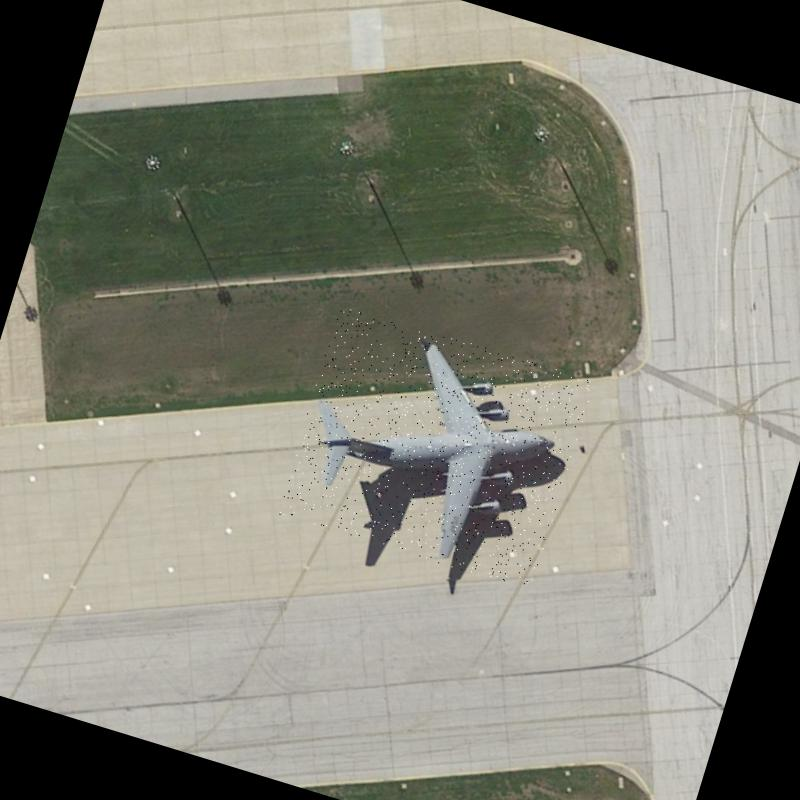A3: (276, 303, 595, 591)
